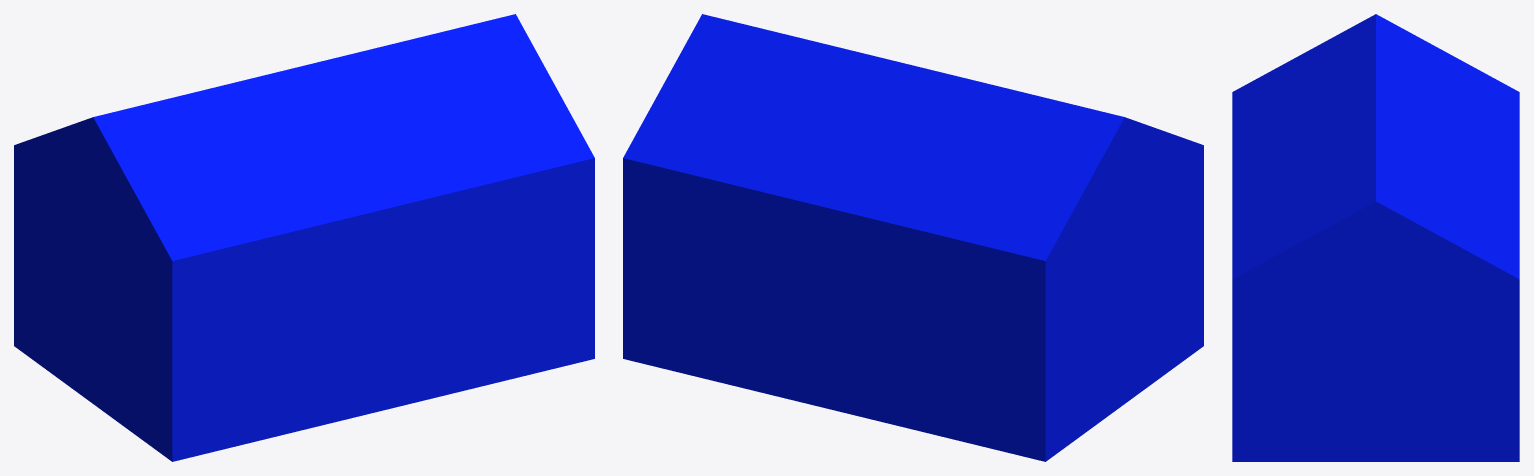
The model's file is Settlement_Blue.fbx.
3 views of the same model, side by side, from view 1: azimuth 30°, elevation 25°; view 2: azimuth 150°, elevation 25°; view 3: azimuth 270°, elevation 25° (orthographic). The views are drawn at different scales.
Parts seen in each view (by area): view 1: Cube; view 2: Cube; view 3: Cube.
Boxes of the visible parts, x1=… form: Cube: x1=14, y1=14, x2=594, y2=461; Cube: x1=623, y1=14, x2=1203, y2=461; Cube: x1=1232, y1=14, x2=1519, y2=461.
Bounding box in the file's own units: 308 × 200 × 200.
